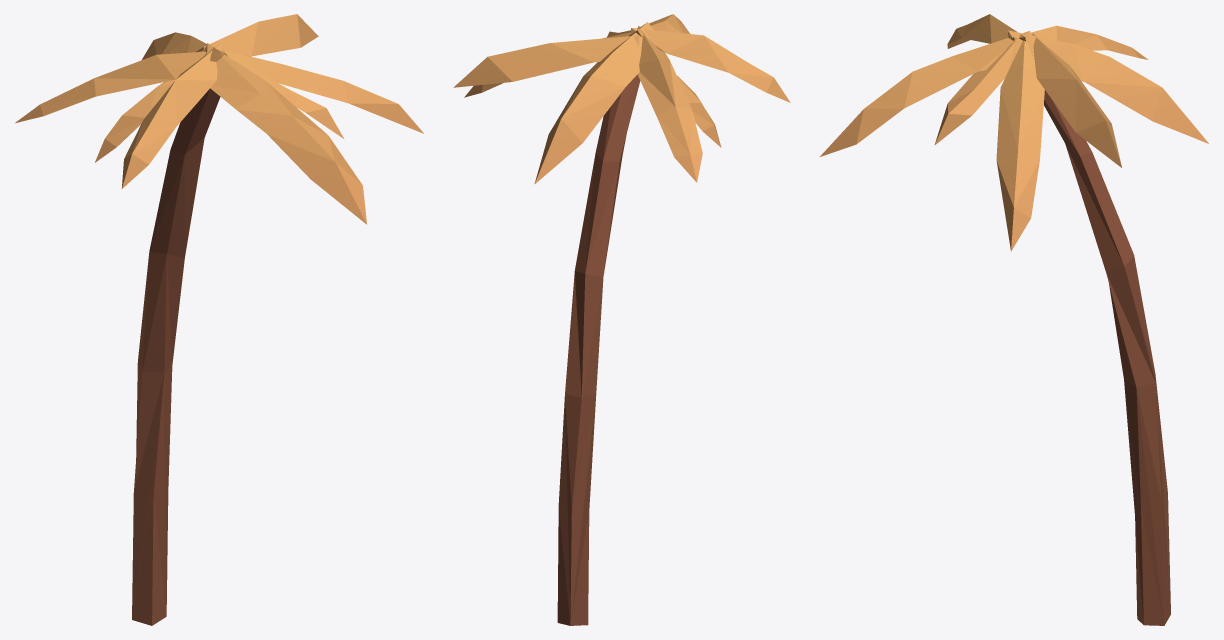
The model's file is Tree_09_gradient_yellow.fbx.
The picture shows the model from 3 angles, left to right: view 1: azimuth 30°, elevation 25°; view 2: azimuth 150°, elevation 25°; view 3: azimuth 270°, elevation 25°; orthographic projection. The views are drawn at different scales.
Parts seen in each view (by area): view 1: Tree_09_gradient_yellow; view 2: Tree_09_gradient_yellow; view 3: Tree_09_gradient_yellow.
Boxes of the visible parts, left/top/right/bottom form: Tree_09_gradient_yellow: left=15, top=14, right=423, bottom=625; Tree_09_gradient_yellow: left=453, top=14, right=790, bottom=625; Tree_09_gradient_yellow: left=820, top=14, right=1208, bottom=625.
Bounding box in the file's own units: 128 × 228 × 137.
